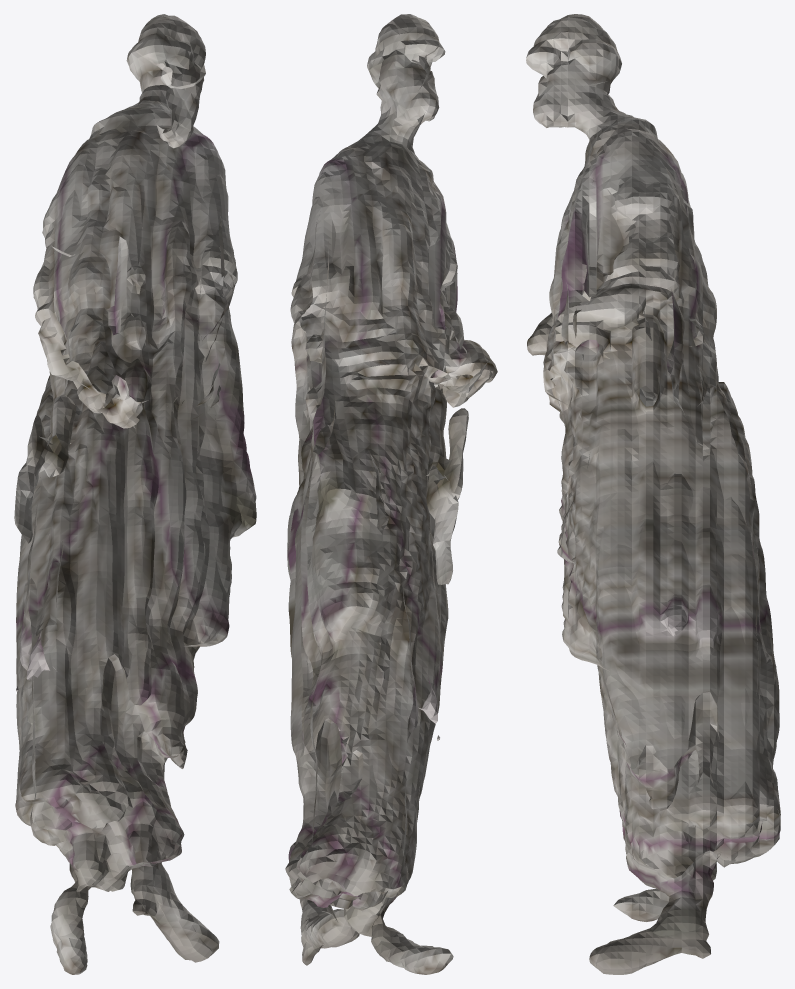
File: senator_standing_clean.glb
3 views of the same model, side by side, from view 1: azimuth 30°, elevation 25°; view 2: azimuth 150°, elevation 25°; view 3: azimuth 270°, elevation 25° (orthographic). The views are drawn at different scales.
Visible parts, largest first — view 1: world; view 2: world; view 3: world.
Boxes of the visible parts, x1,y1,x2,y2 form: world: (14,14,256,974); world: (285,14,497,974); world: (526,14,780,974).
Size of the model in its own units: 0.2006 by 0.9887 by 0.2449.
